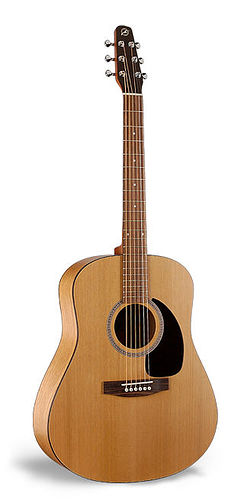guitar: (32, 25, 220, 485)
